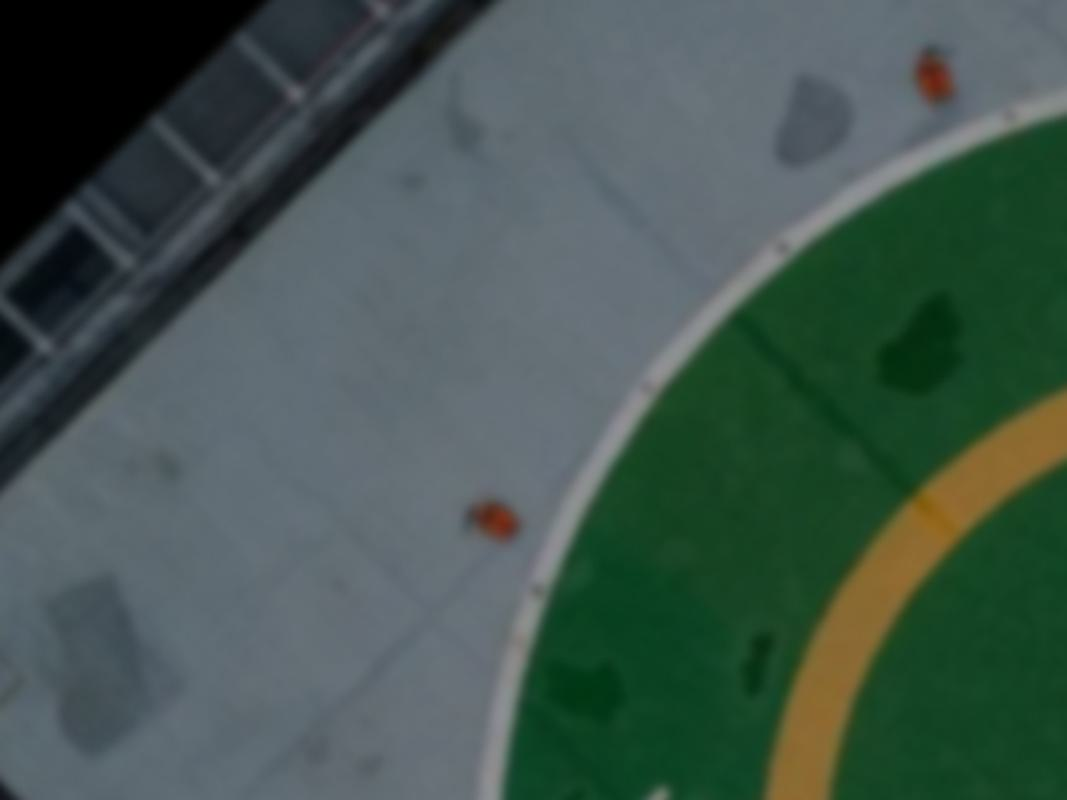Apron: (751, 348, 1067, 800)
